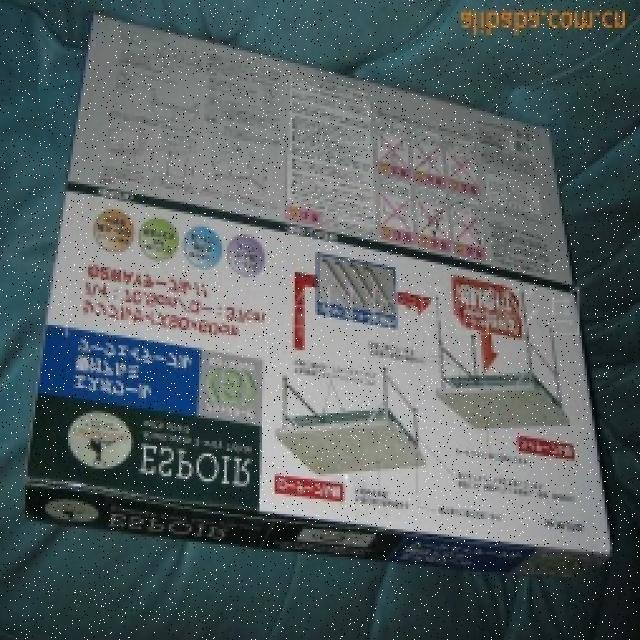box: (9, 21, 608, 564)
